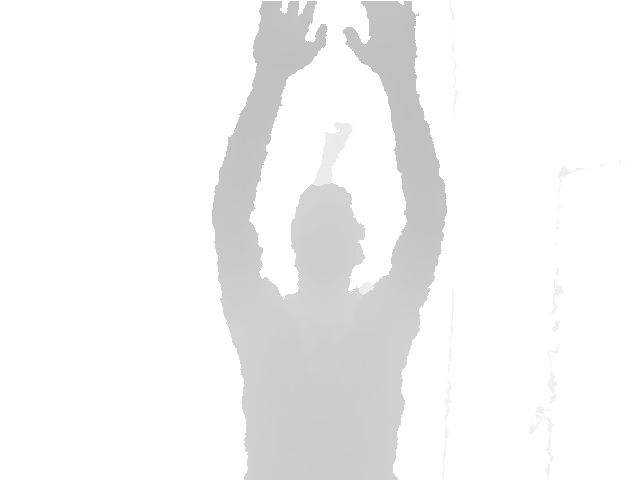hand: (342, 1, 419, 78), (252, 1, 328, 78), (321, 120, 352, 164)
head: (290, 183, 364, 292)
person: (210, 1, 449, 480), (309, 119, 353, 185)
